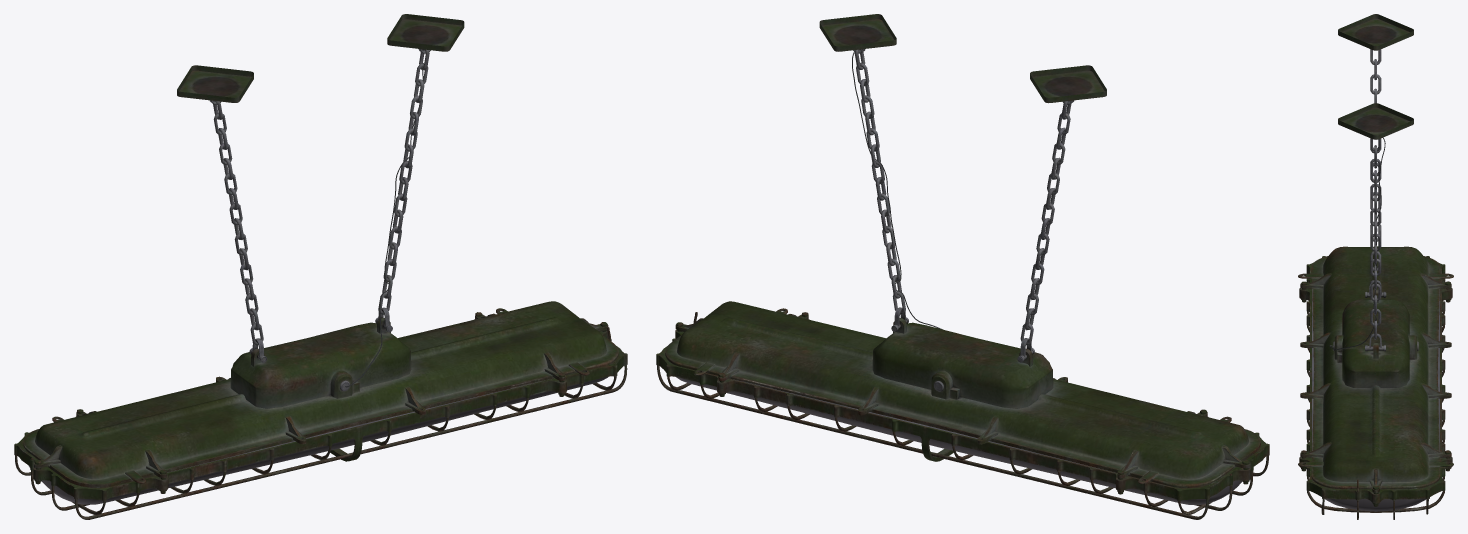
Rendered from caged_hanging_light_1k.glb.
3 views of the same model, side by side, from view 1: azimuth 30°, elevation 25°; view 2: azimuth 150°, elevation 25°; view 3: azimuth 270°, elevation 25° (orthographic). The views are drawn at different scales.
Parts seen in each view (by area): view 1: caged_hanging_light; view 2: caged_hanging_light; view 3: caged_hanging_light.
Boxes of the visible parts, box(x1,y1,x2,y2) form: caged_hanging_light: box(14, 14, 627, 519); caged_hanging_light: box(656, 14, 1269, 519); caged_hanging_light: box(1298, 14, 1453, 519).
Bounding box in the file's own units: 1.16 × 0.7501 × 0.3149.
1 material, 1 textured.
